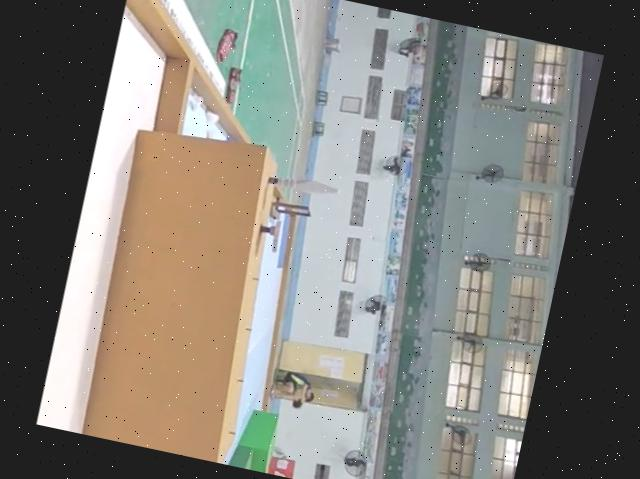Hand: (256, 213, 286, 255)
Sph: (264, 165, 340, 200)
